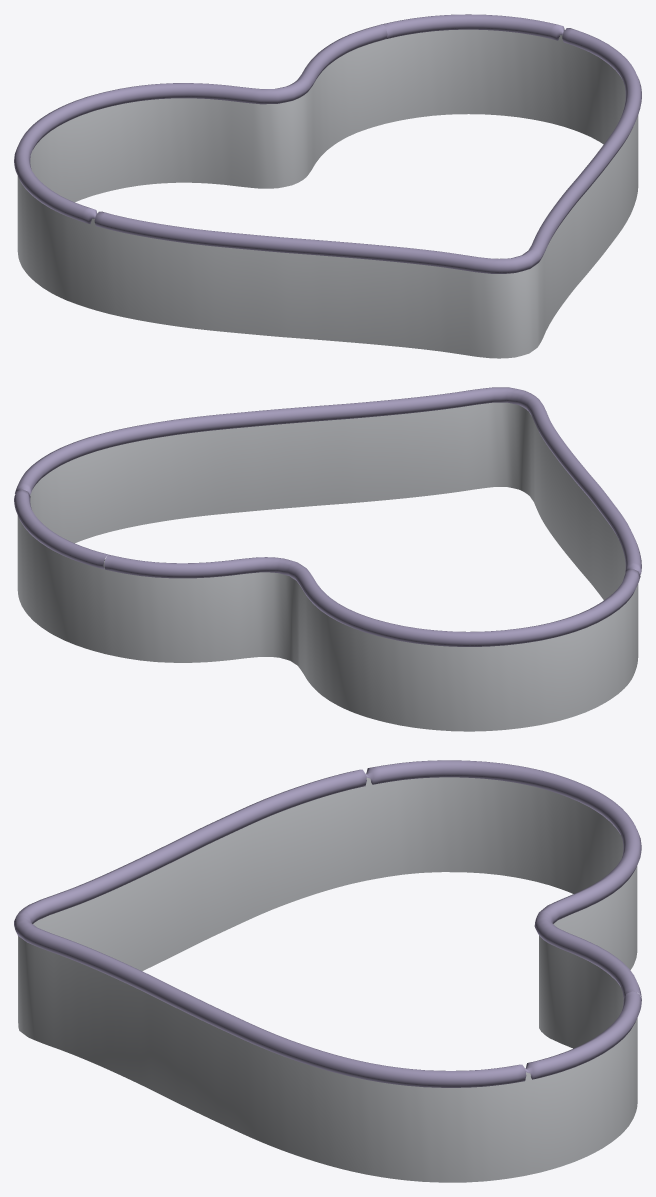
The model's file is HeartCutter.glb.
The picture shows the model from 3 angles, top to bottom: view 1: azimuth 30°, elevation 25°; view 2: azimuth 150°, elevation 25°; view 3: azimuth 270°, elevation 25°; orthographic projection. The views are drawn at different scales.
Visible parts, largest first — view 1: Steel, Rim; view 2: Steel, Rim; view 3: Steel, Rim.
Part boxes in pixels (x1=…): Steel: x1=17, y1=29, x2=638, y2=358; Rim: x1=14, y1=14, x2=641, y2=273; Steel: x1=17, y1=402, x2=638, y2=731; Rim: x1=14, y1=387, x2=641, y2=646; Steel: x1=18, y1=777, x2=637, y2=1182; Rim: x1=14, y1=760, x2=641, y2=1087.
Bounding box in the file's own units: 10.79 × 1.73 × 9.
